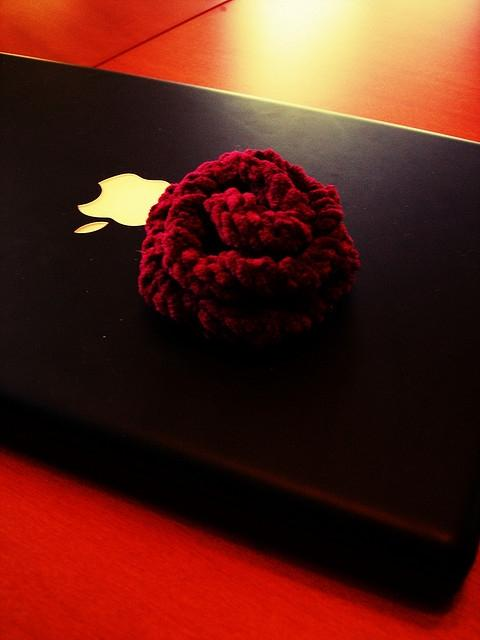apple: (74, 174, 170, 234)
